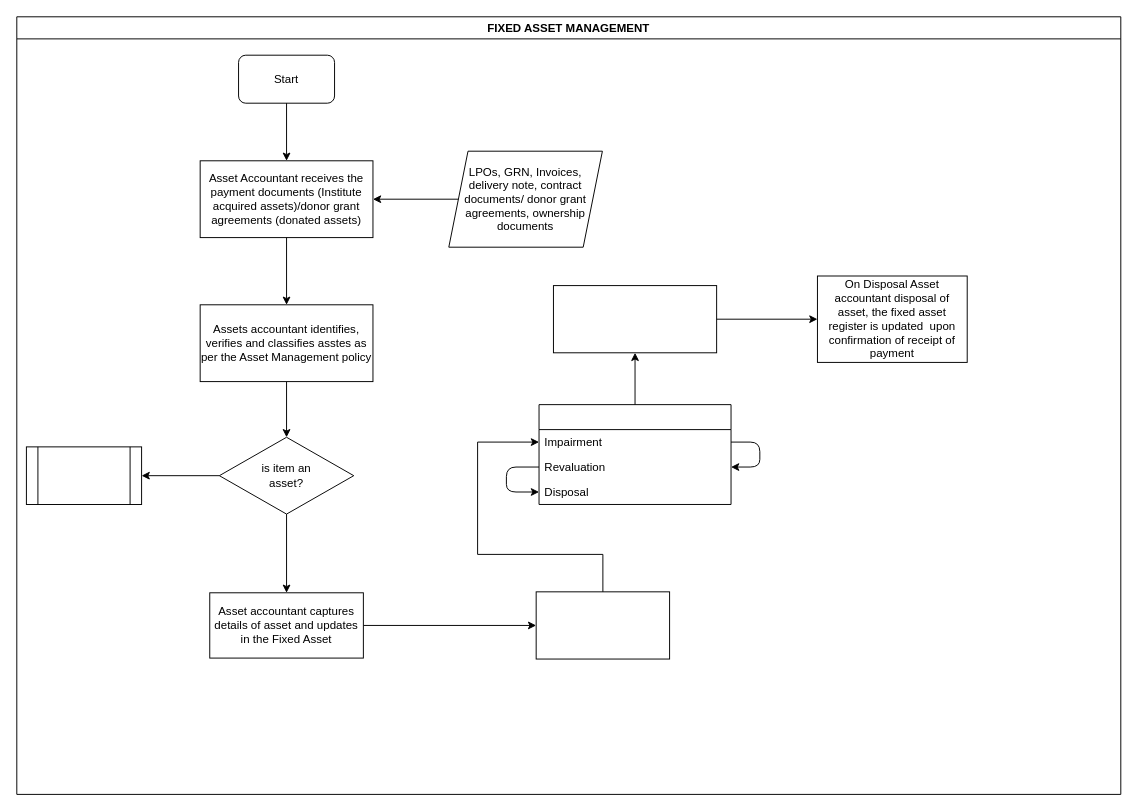
Image size: 1138x811. Some labels were removed from this diagram. Each missing label, with the box of its shape:
Asset accountant tags and assigs an asset number electronically: (535, 591, 670, 659)
Classify as an expense: (25, 446, 142, 504)
Fixed assets schedule is updated to reflect the Net Book Value of the assets: (552, 285, 717, 353)
Tagged Asset Management: (538, 404, 731, 504)
